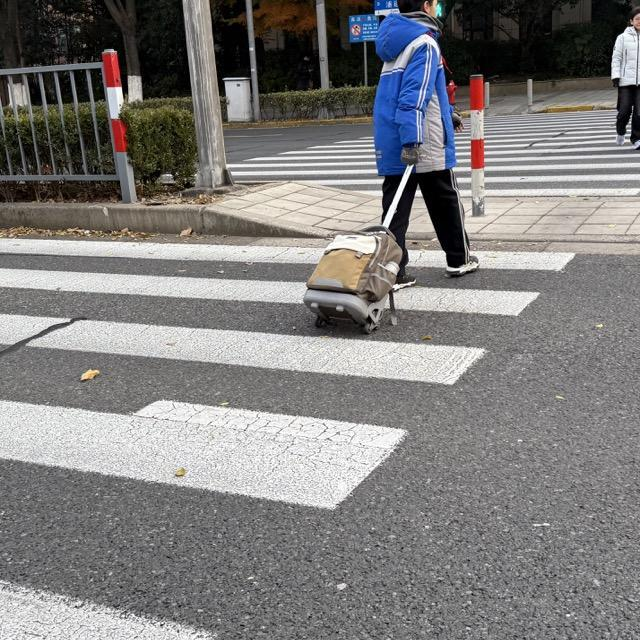curb: (0, 203, 325, 236), (481, 231, 639, 243), (225, 118, 370, 129), (540, 105, 613, 113)
